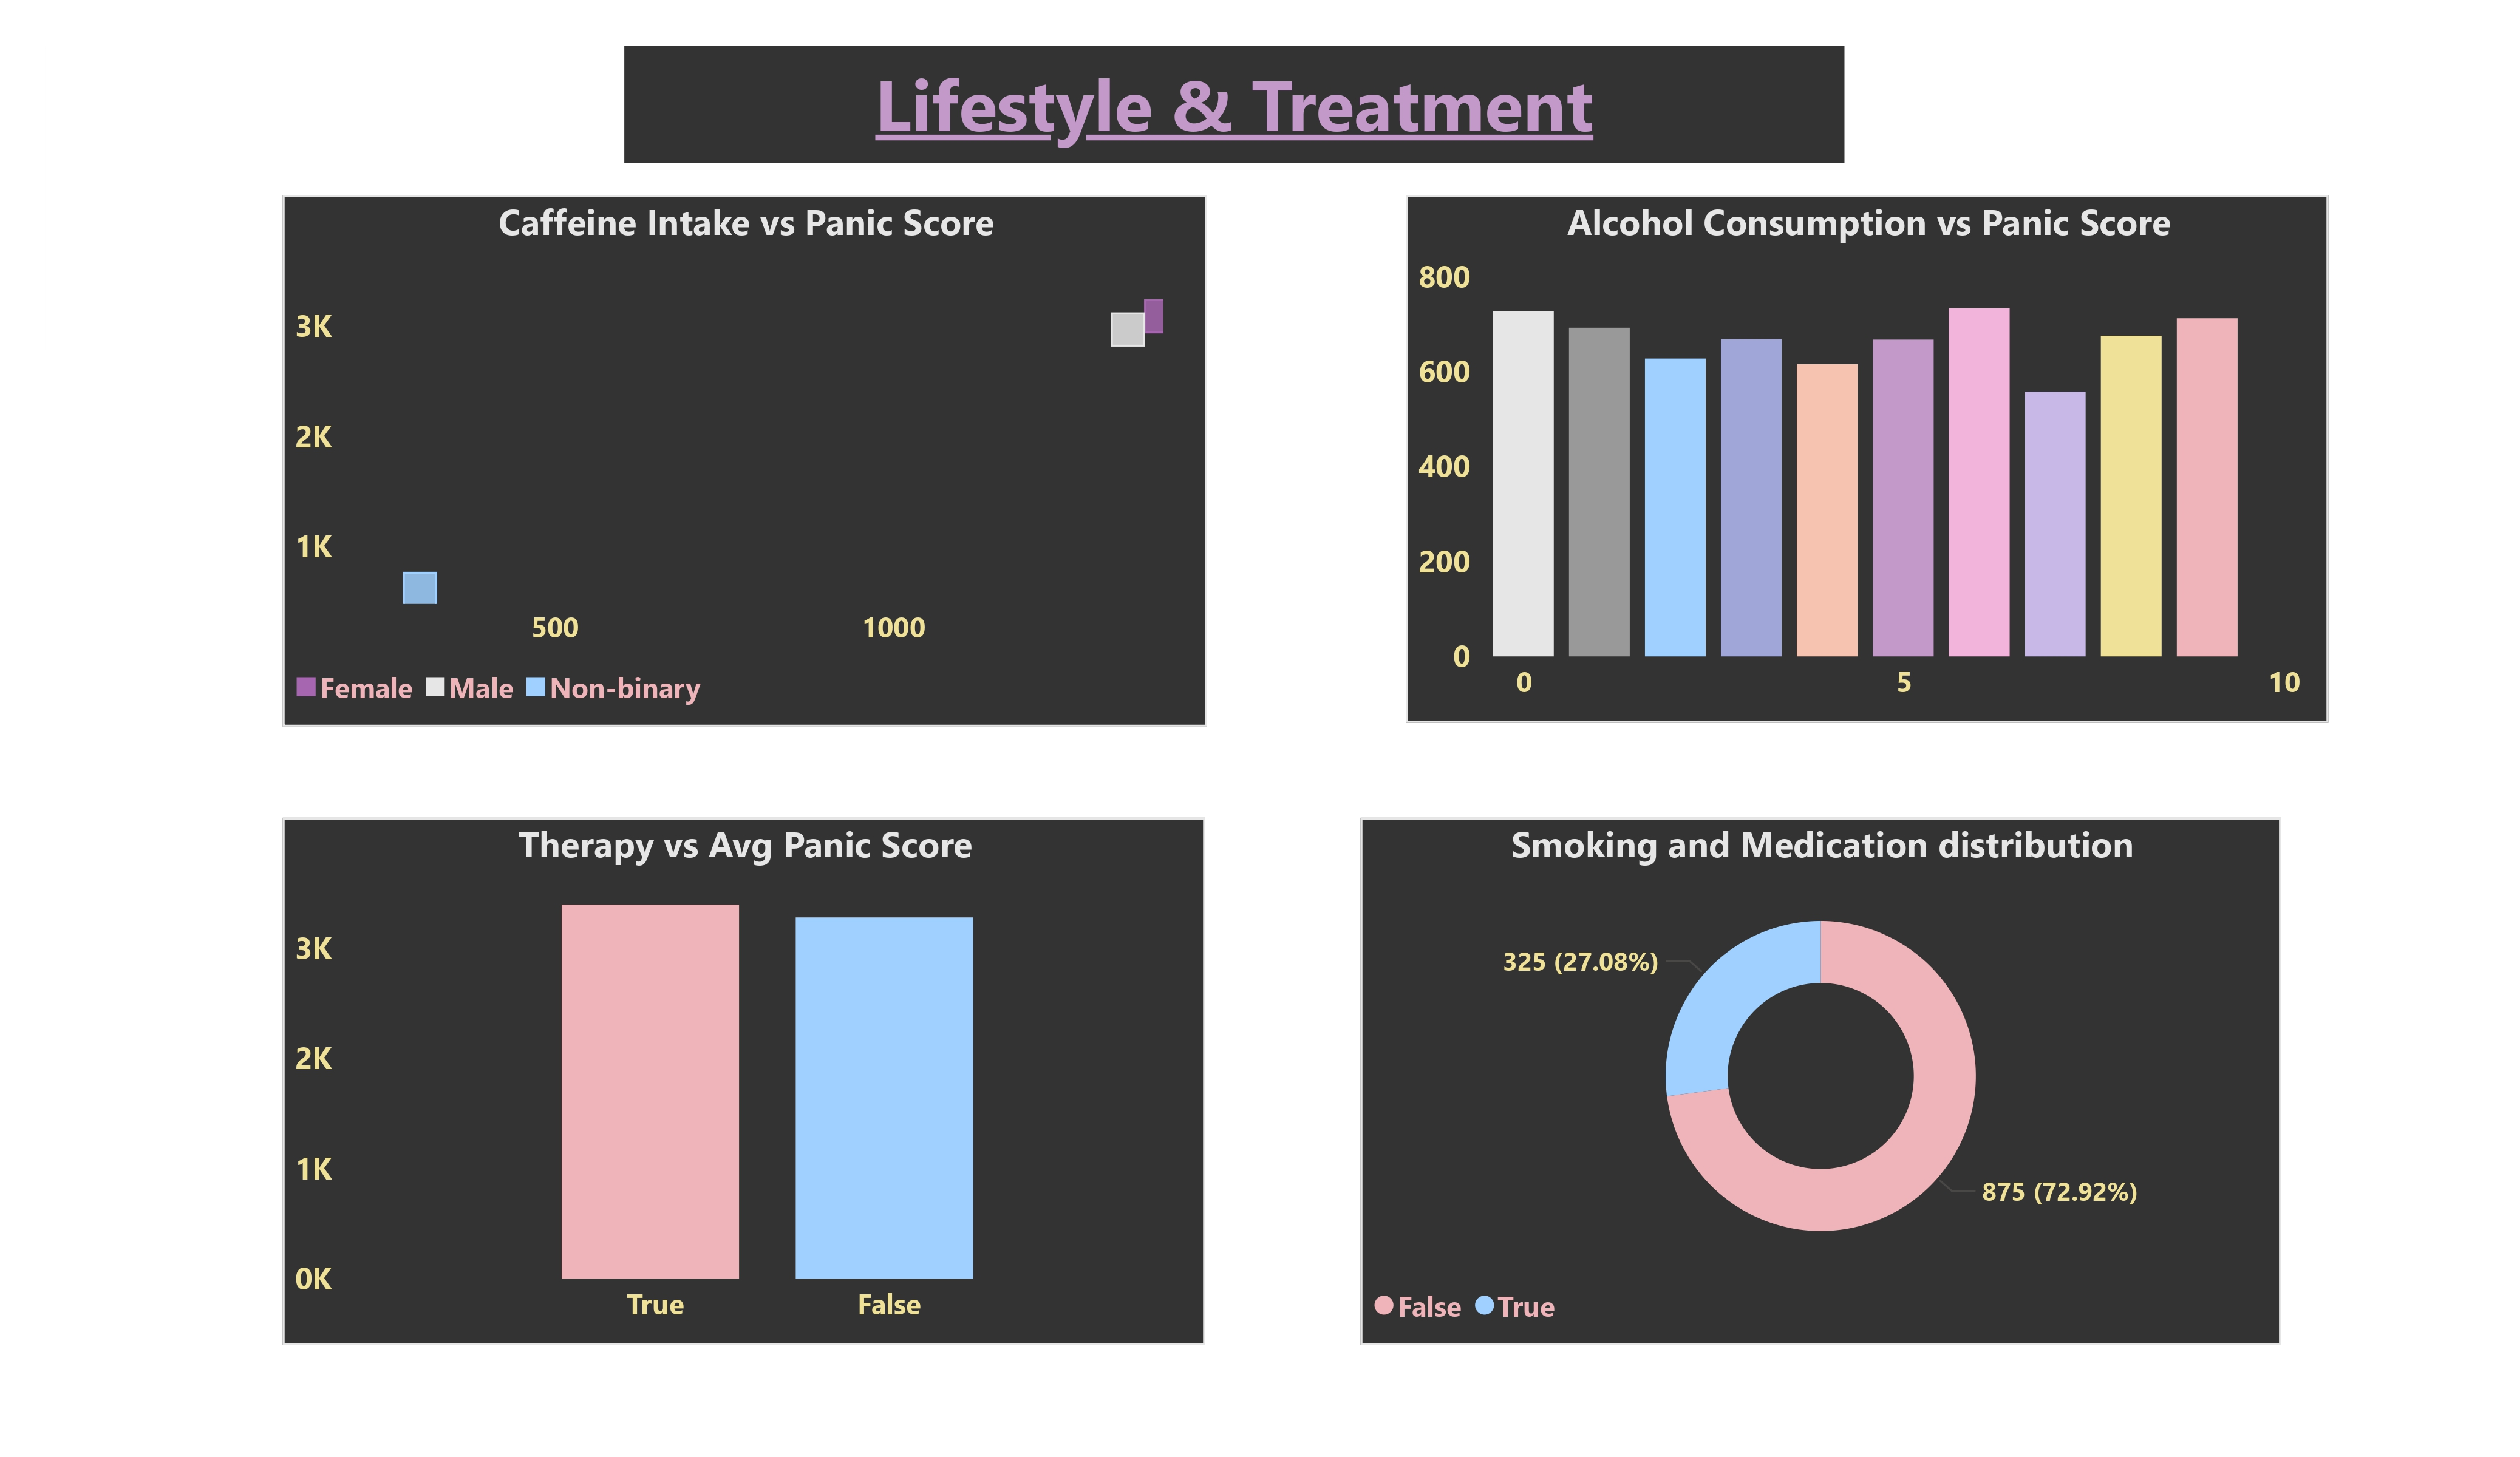

The dashboard page shown, as its layout file describes it:
{"tool":"powerbi","page":{"name":"Lifestyle & Treatment","canvas":[1280,720],"ordinal":2},"visuals":[{"type":"textbox","box":[304.5,0,643.1,61.8],"z":0},{"type":"scatterChart","title":"Caffeine Intake vs Panic Score","fields":{"X":["Sum(PANIC_ATTACK_DATA.CAFFEINE_INTAKE)"],"Y":["Sum(PANIC_ATTACK_DATA.PANIC_SCORE)"],"Series":["PANIC_ATTACK_DATA.GENDER"]},"box":[125.2,78.8,487,279.8],"z":1000},{"type":"clusteredColumnChart","title":"Alcohol Consumption vs Panic Score","fields":{"Category":["PANIC_ATTACK_DATA.ALCOHOL_CONSUMPTION"],"Y":["Sum(PANIC_ATTACK_DATA.PANIC_SCORE)"]},"box":[717.3,78.8,486,278.3],"z":2000},{"type":"clusteredColumnChart","title":"Therapy vs Avg Panic Score","fields":{"Category":["PANIC_ATTACK_DATA.THERAPY"],"Y":["Sum(PANIC_ATTACK_DATA.PANIC_SCORE)"]},"box":[125.2,406.6,485.4,278.3],"z":3000},{"type":"donutChart","title":"Smoking and Medication distribution","fields":{"Category":["PANIC_ATTACK_DATA.SMOKING","PANIC_ATTACK_DATA.MEDICATION"],"Y":["CountNonNull(PANIC_ATTACK_DATA.ID)"]},"box":[692.6,406.6,485.4,278.3],"z":4000}]}

Visuals, with their boxes in screenshot pixels (x1, y1, x2, y2):
textbox: 624 46 1844 163
"Caffeine Intake vs Panic Score" scatterChart: 283 195 1207 726
"Alcohol Consumption vs Panic Score" clusteredColumnChart: 1407 195 2329 723
"Therapy vs Avg Panic Score" clusteredColumnChart: 283 817 1204 1345
"Smoking and Medication distribution" donutChart: 1360 817 2281 1345
